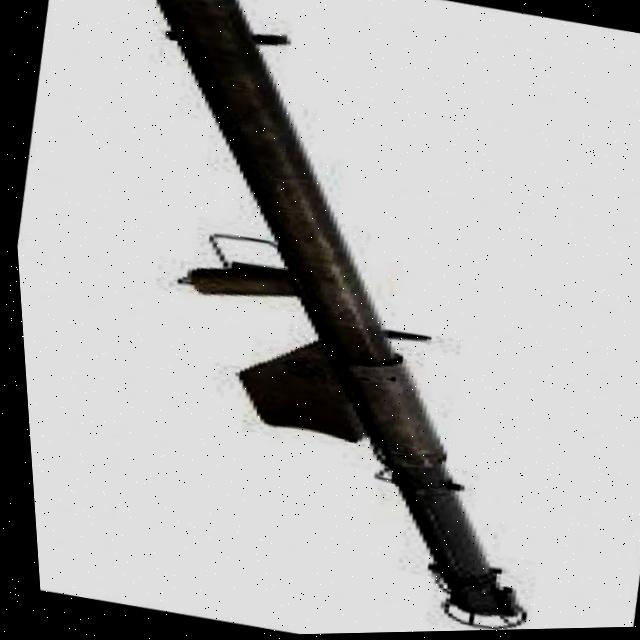rocket: (42, 0, 628, 639)
